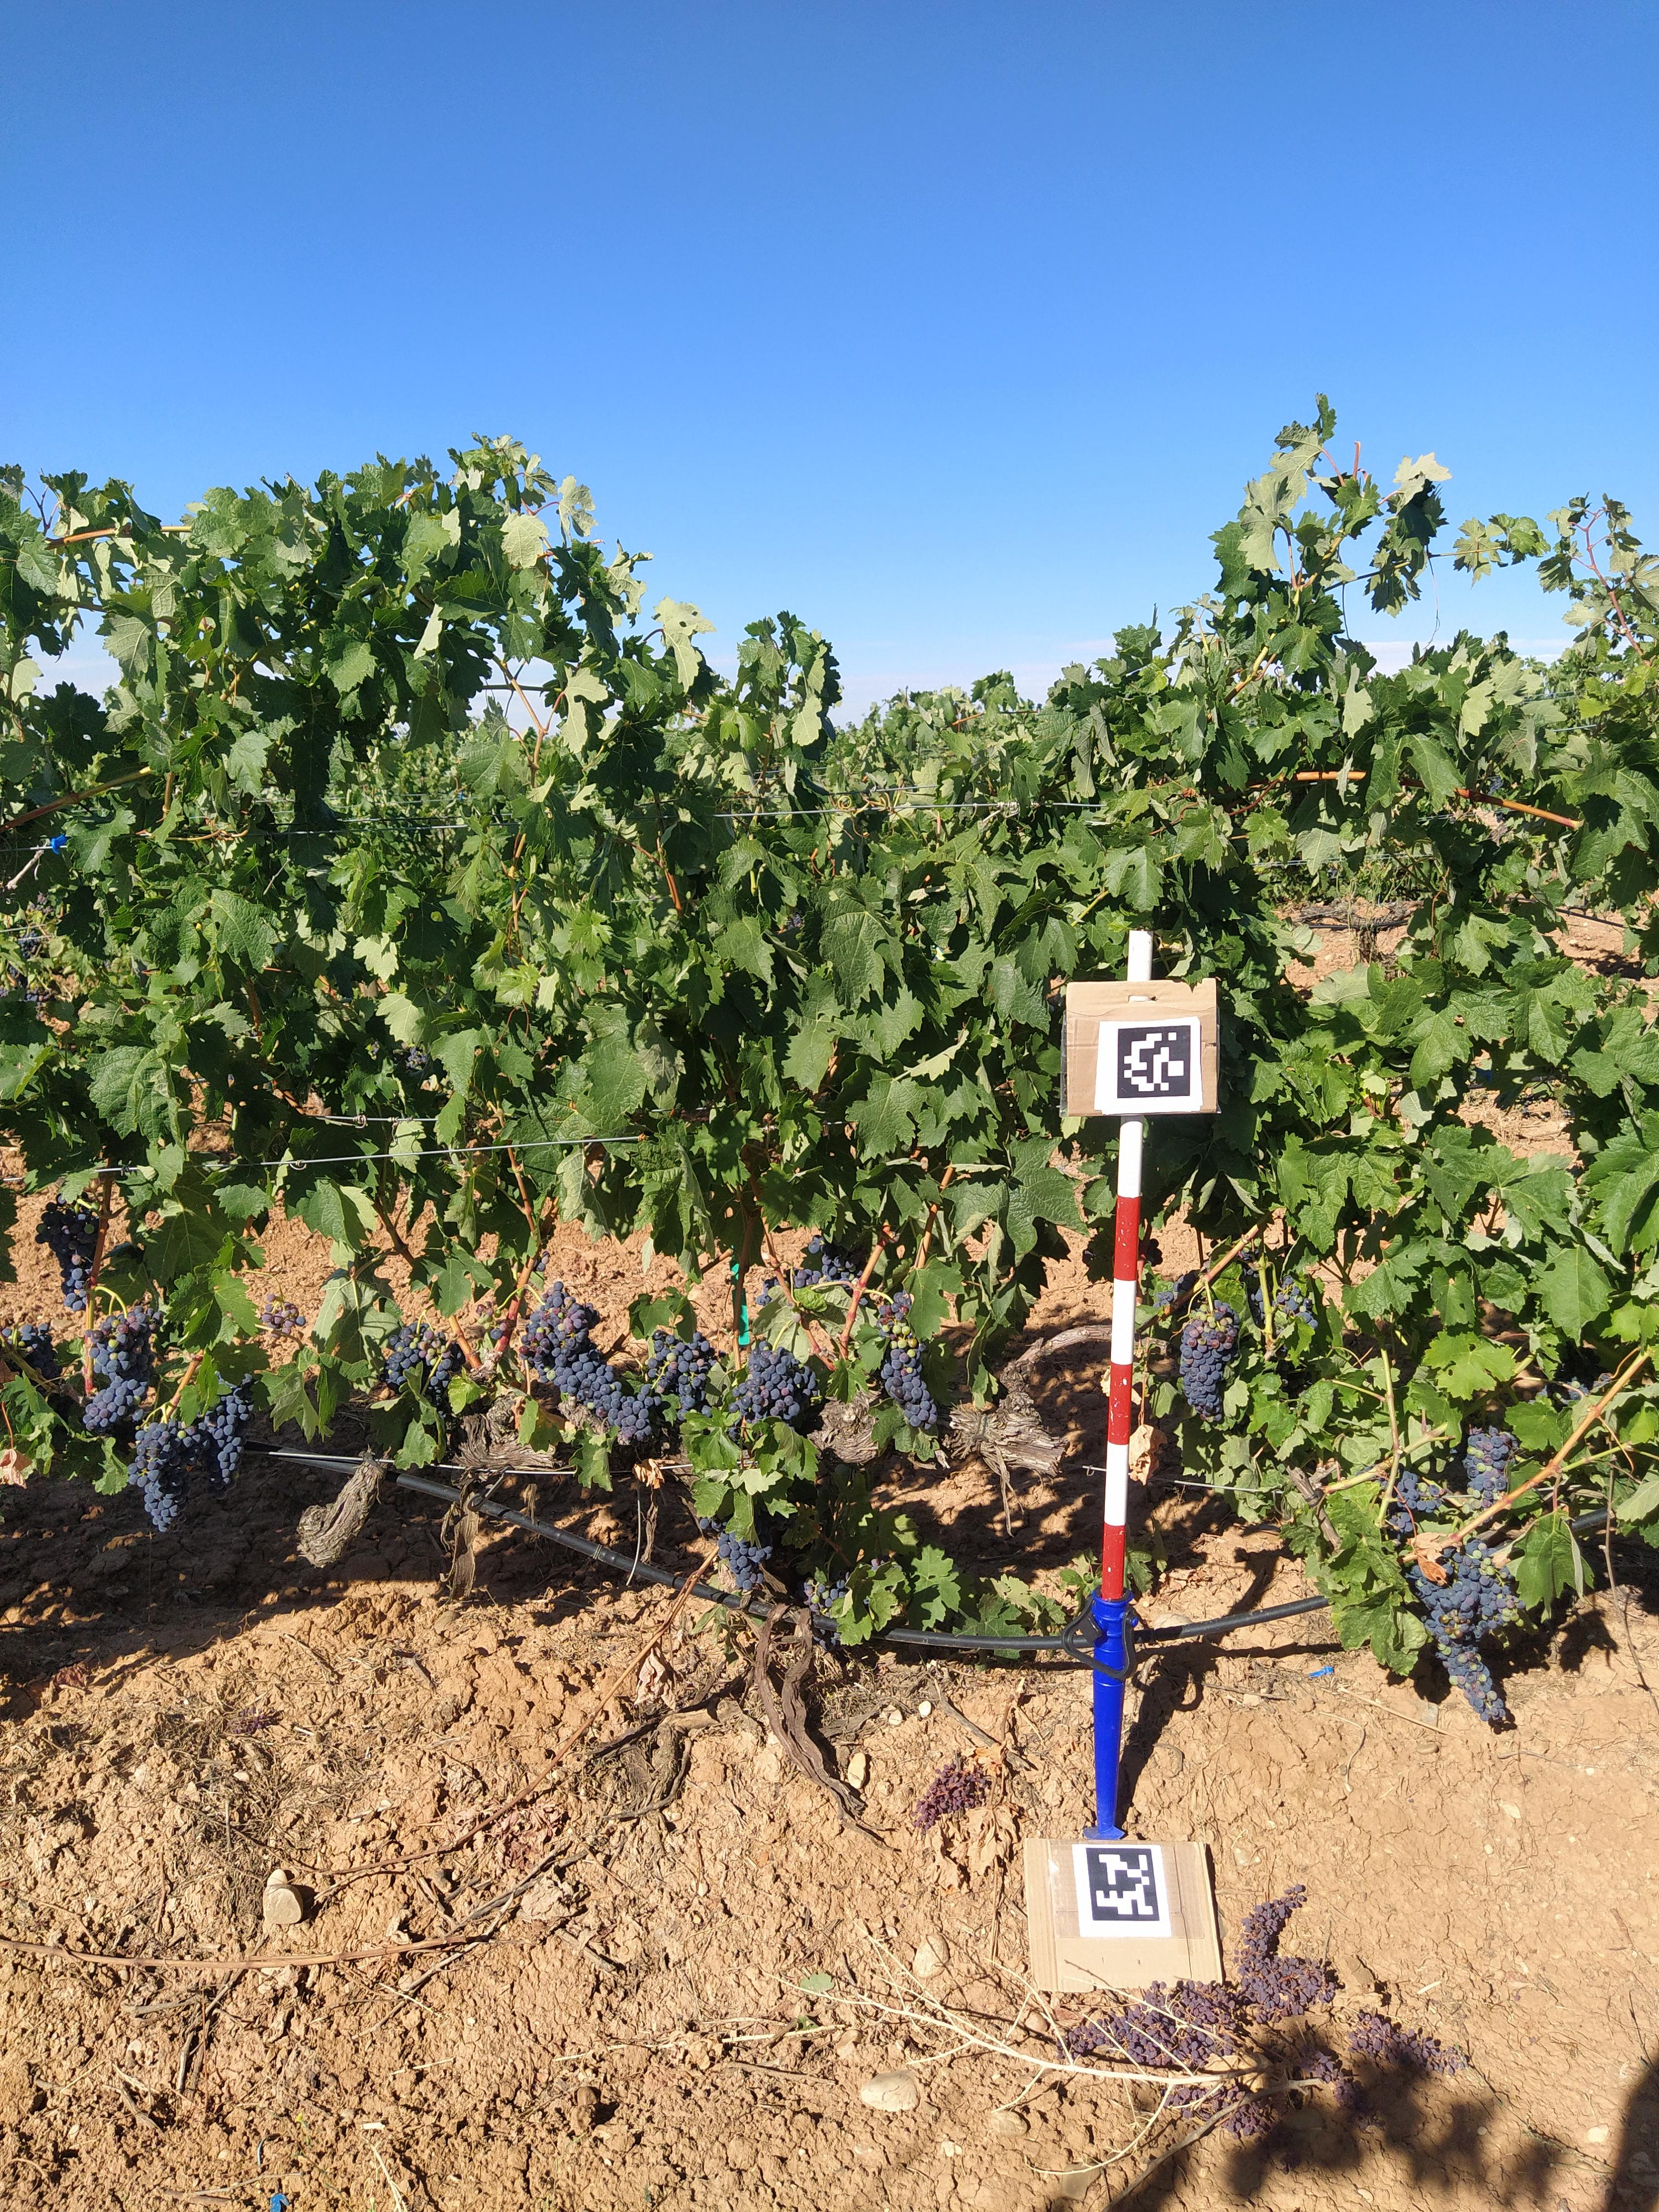QR: (1110, 1021, 1201, 1103), (1086, 1844, 1161, 1925)
